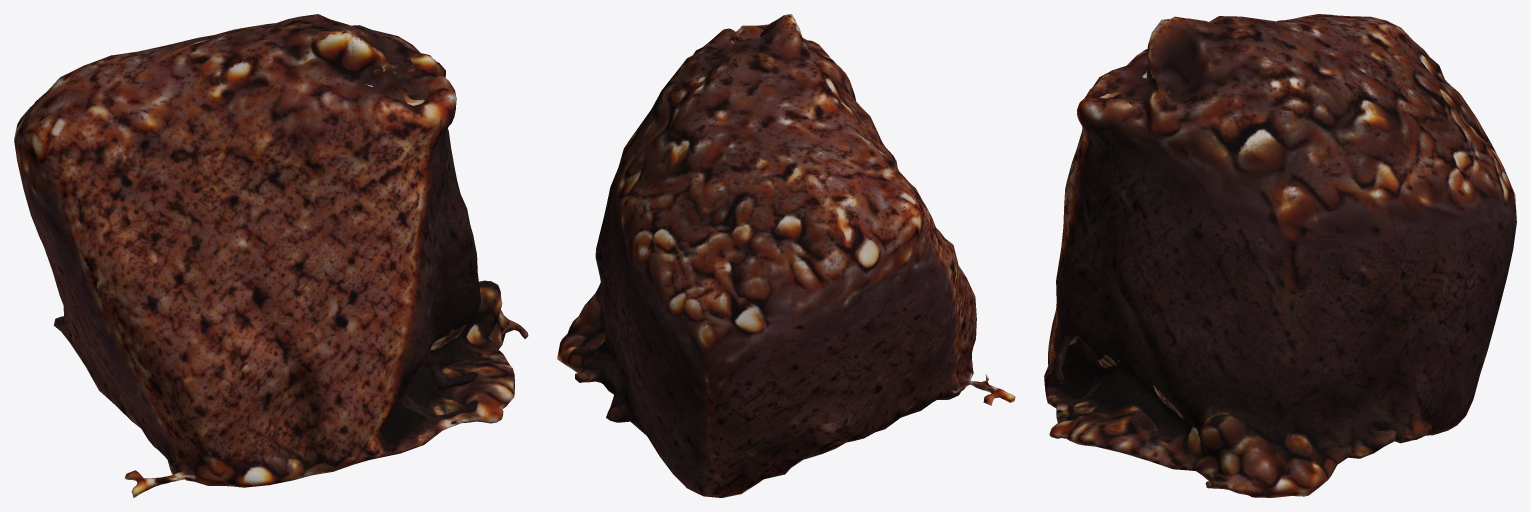
Rendered from d8add90e9337_Brownie_Points__but.fbx.
3 renders of one model, left to right at view 1: azimuth 30°, elevation 25°; view 2: azimuth 150°, elevation 25°; view 3: azimuth 270°, elevation 25°, orthographic. The views are drawn at different scales.
Visible parts, largest first — view 1: mesh; view 2: mesh; view 3: mesh.
Boxes of the visible parts, x1,y1,x2,y2 form: mesh: (14, 14, 528, 497); mesh: (557, 14, 1015, 497); mesh: (1044, 14, 1516, 497).
Size of the model in its own units: 97.67 by 91.04 by 90.65.
